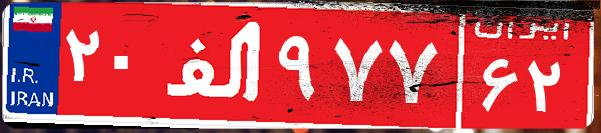0: (110, 28, 158, 105)
2: (57, 26, 110, 107), (525, 38, 570, 115)
6: (475, 38, 525, 113)
7: (385, 28, 445, 110), (330, 28, 385, 110)
9: (273, 28, 330, 110)
الف: (158, 15, 273, 115)
